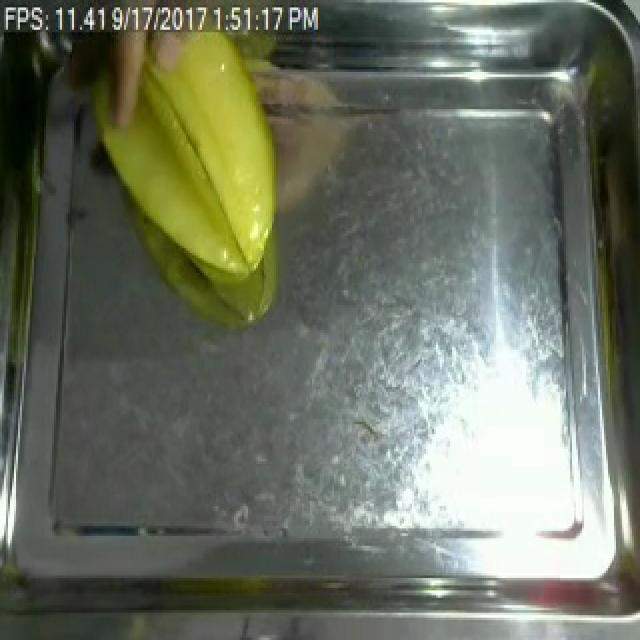fruit: (84, 30, 292, 288)
